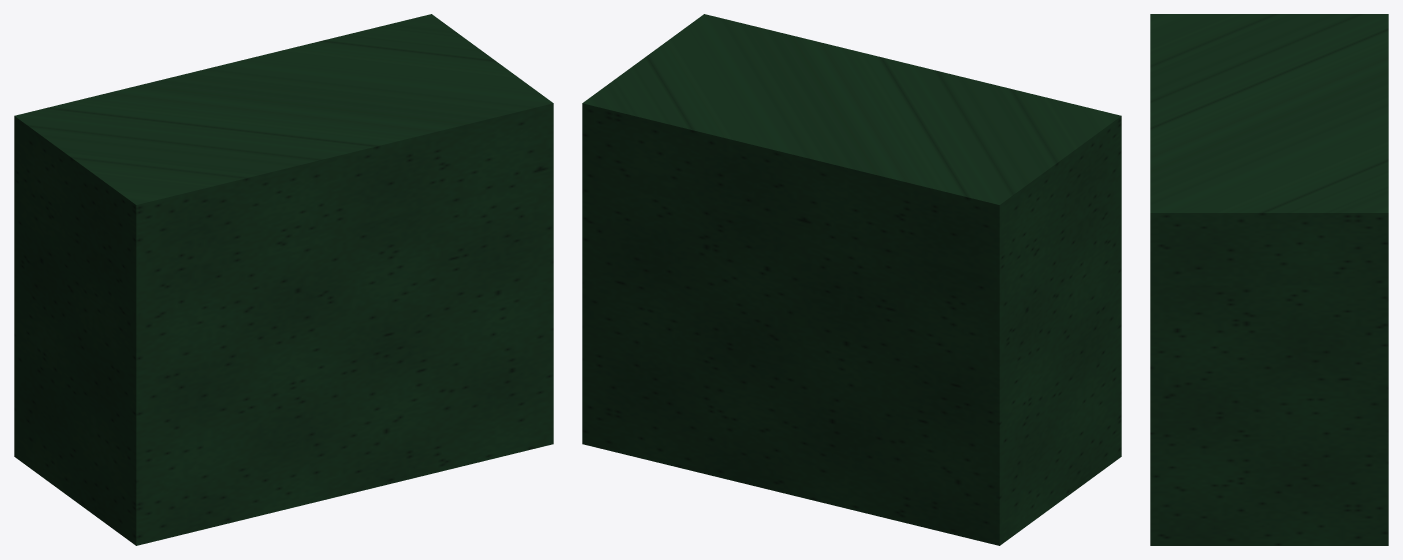
File: PROP-E8800E0F7319.glb
3 renders of one model, left to right at view 1: azimuth 30°, elevation 25°; view 2: azimuth 150°, elevation 25°; view 3: azimuth 270°, elevation 25°, orthographic. The views are drawn at different scales.
Visible parts, largest first — view 1: cabinet.007; view 2: cabinet.007; view 3: cabinet.007.
Part boxes in pixels (x1,y1,x2,y2): cabinet.007: (14,14,553,545); cabinet.007: (582,14,1121,545); cabinet.007: (1150,14,1388,545).
Size of the model in its own units: 0.56 by 0.437 by 0.2835.
2 materials, 2 textured.
